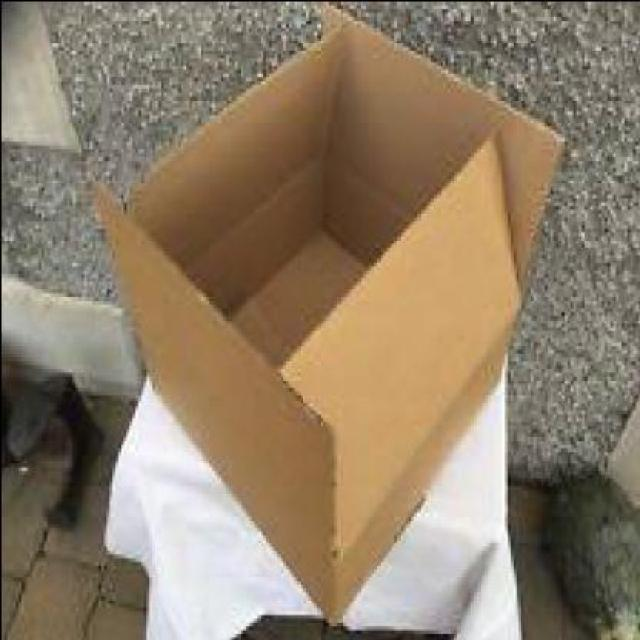CARDBOARD: (94, 2, 566, 610), (282, 121, 529, 545), (96, 178, 336, 534)
